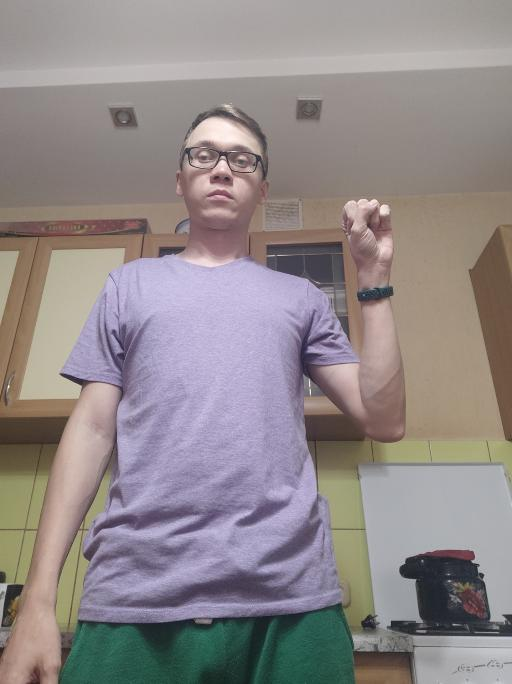fist: (337, 194, 400, 275)
no_gesture: (1, 599, 65, 682)
